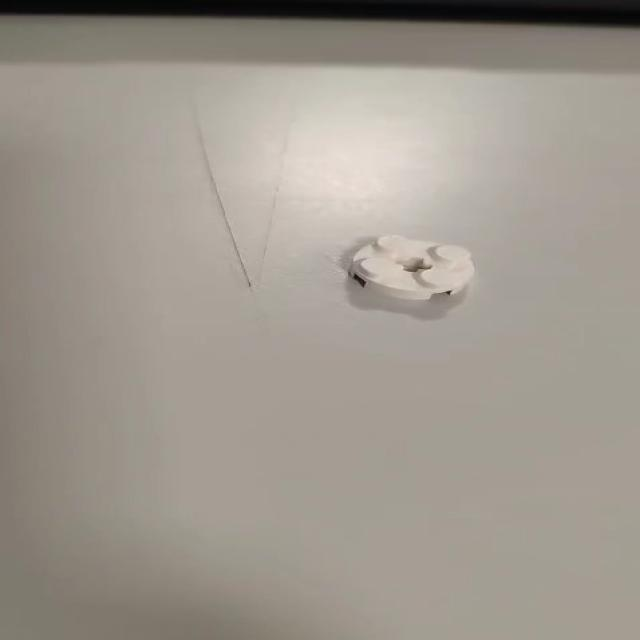S2x2x0: (346, 232, 476, 300)
